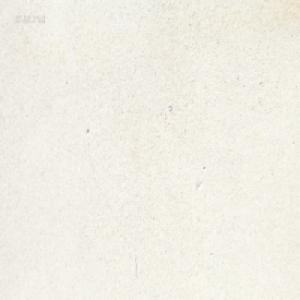Washer: (168, 104, 172, 112)
